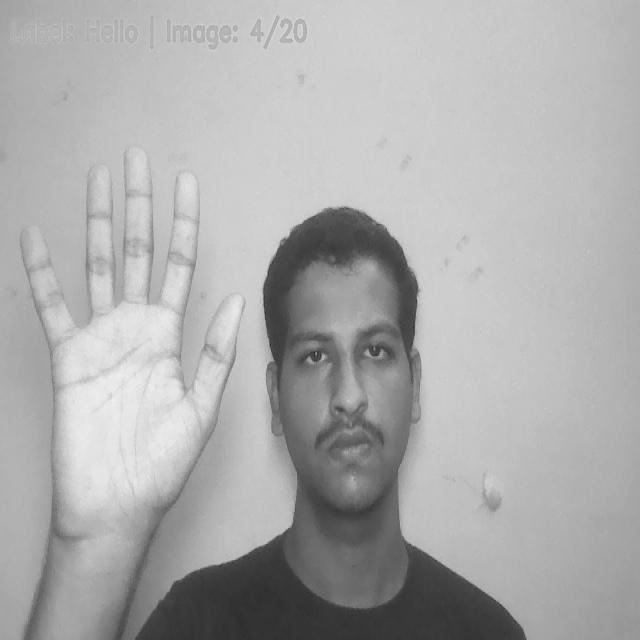Hello: (16, 138, 250, 529)
